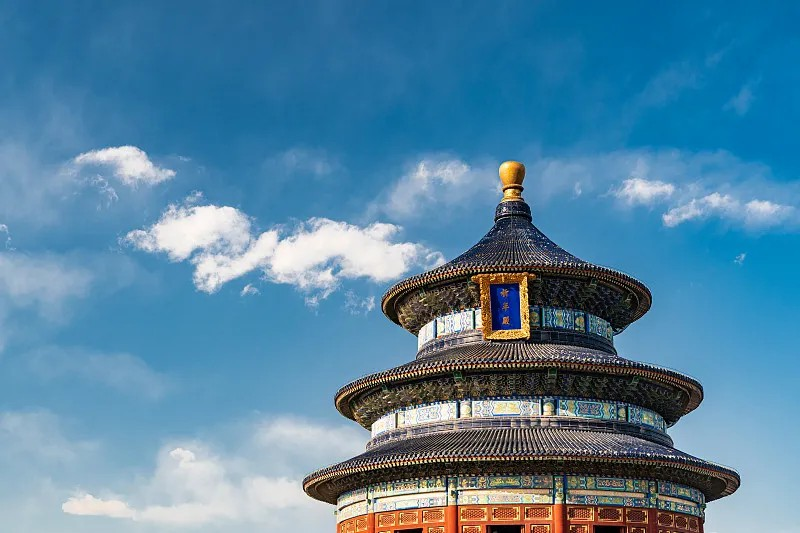Heaven: (302, 161, 742, 533)
